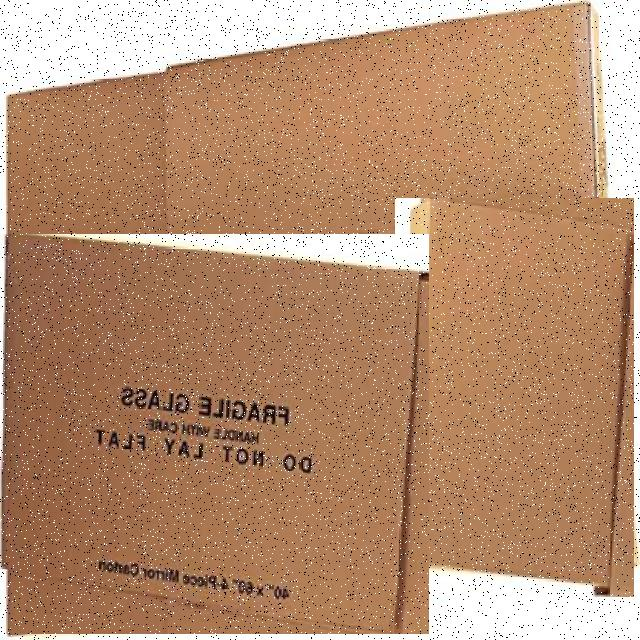normal: (0, 234, 429, 634), (395, 198, 634, 597)
